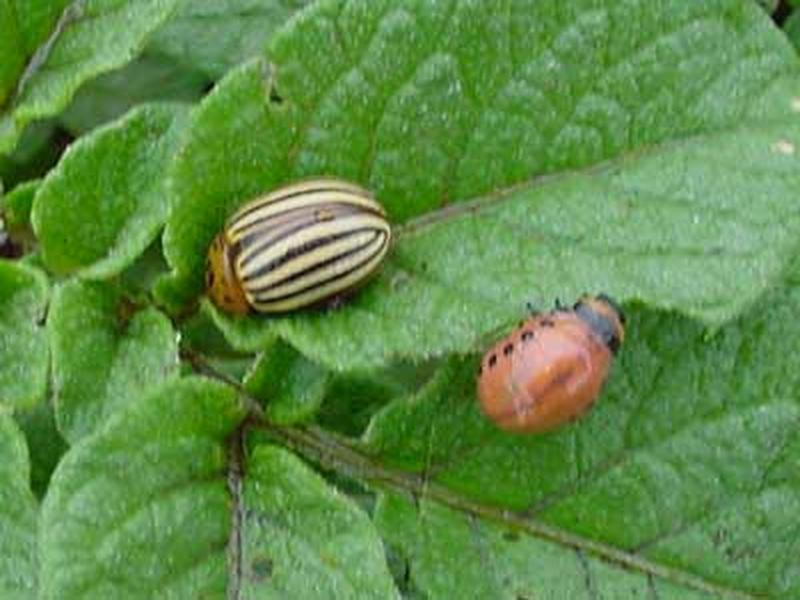hrosc: (197, 177, 398, 317)
